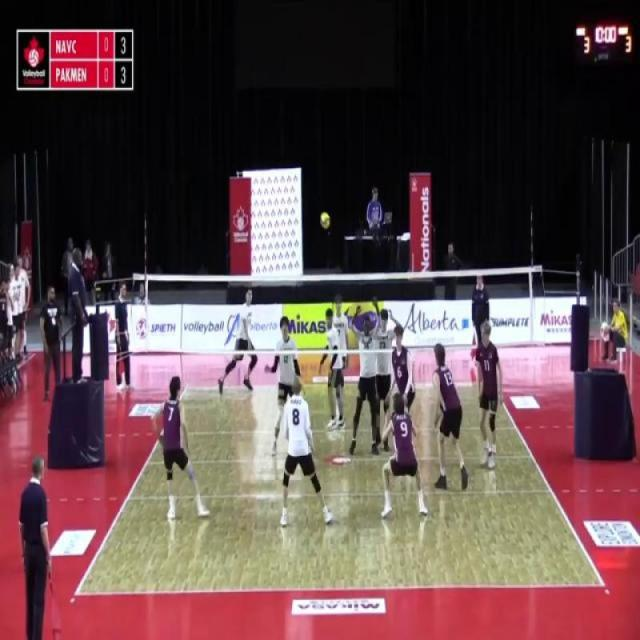volleyball: (320, 211, 330, 230)
